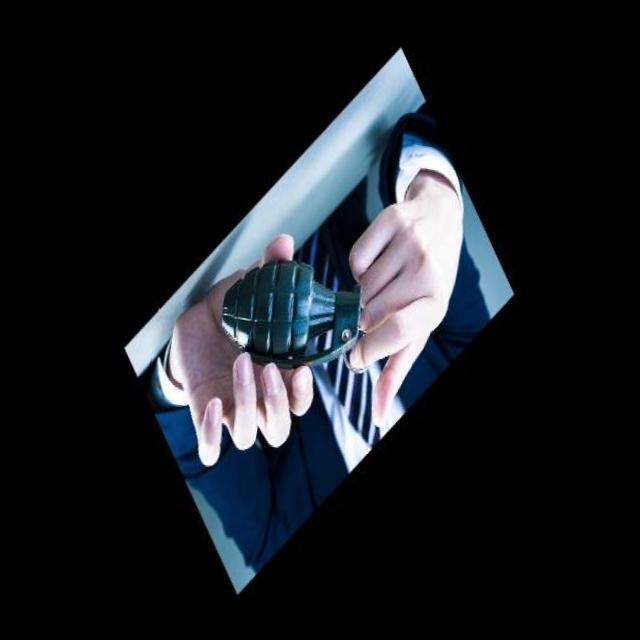grenade: (208, 242, 382, 376)
